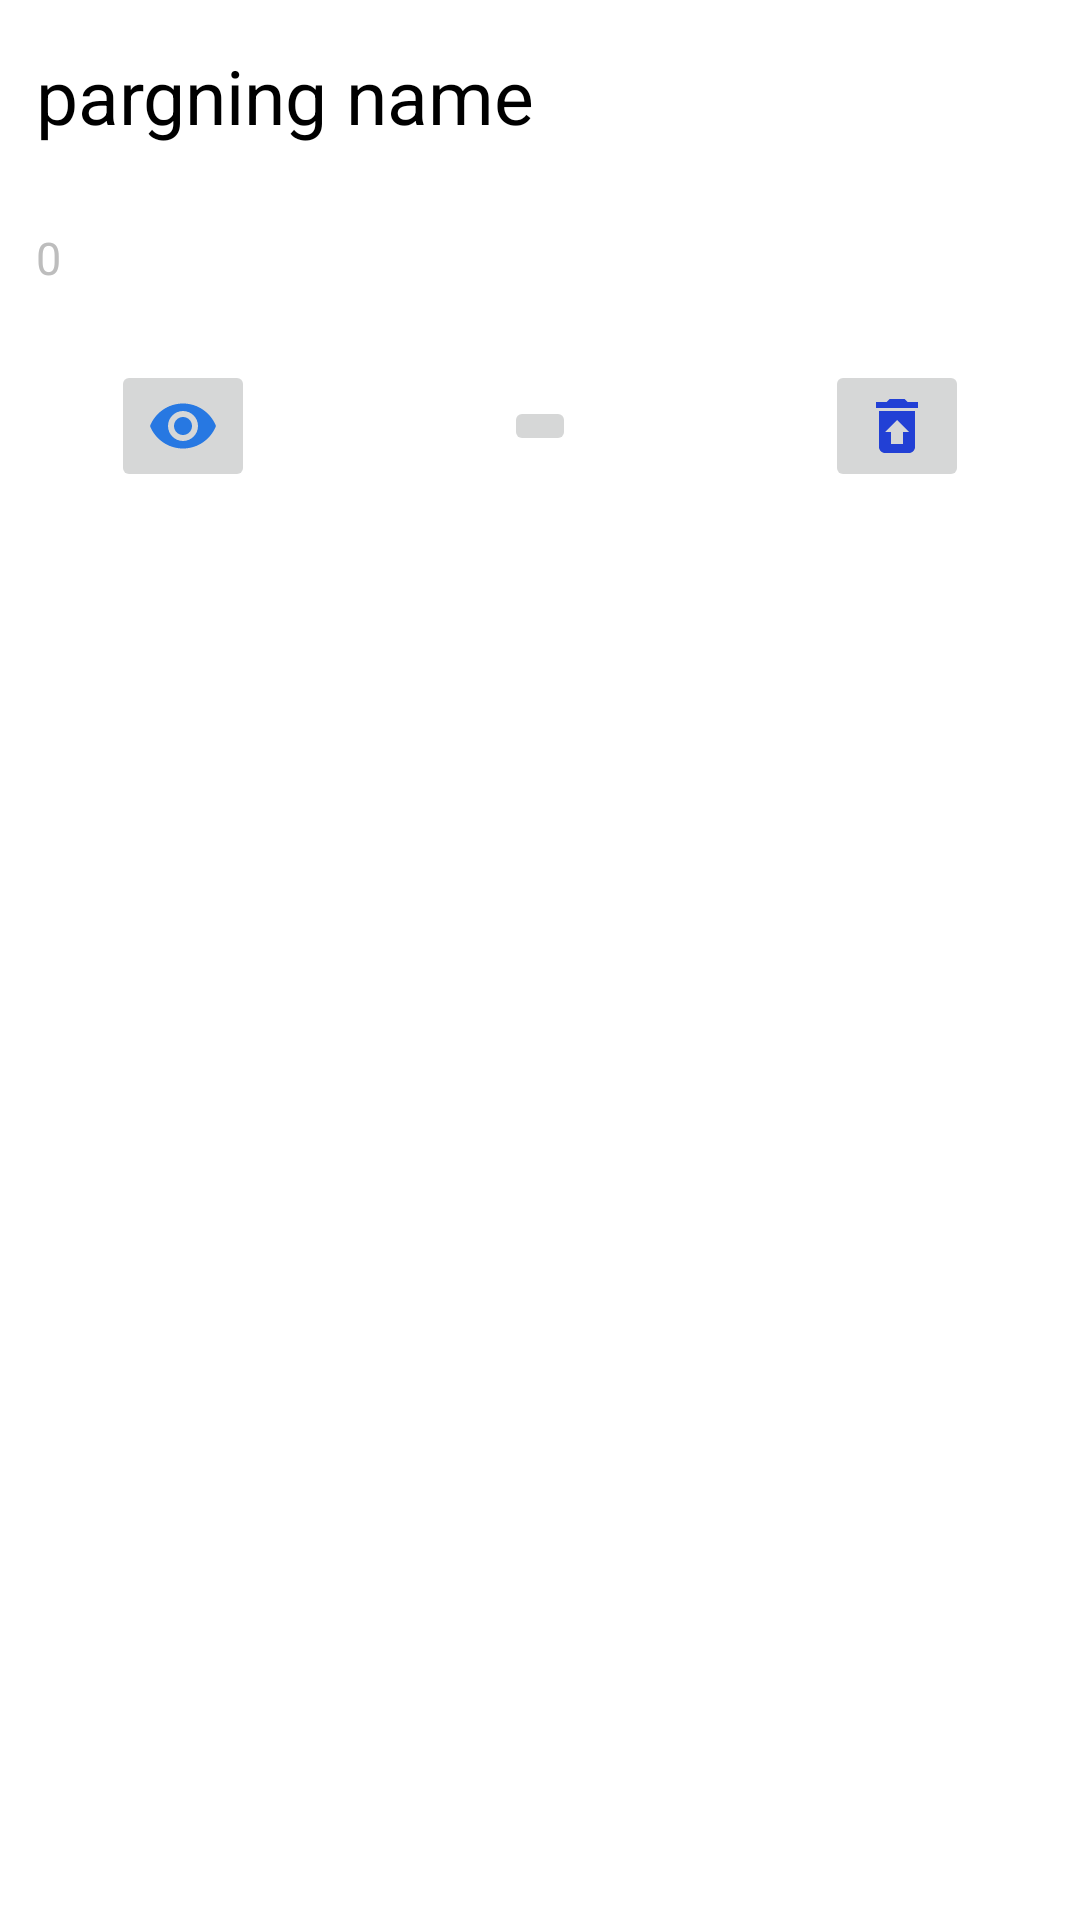

Icons on this 1080 x 1920 Android screen, each with the point to tap as point (x, y):
eye: point (183, 426)
trash: point (897, 426)
